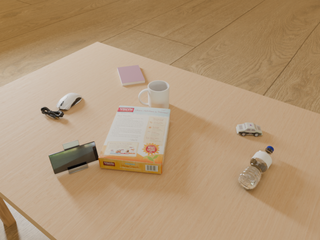book: (117, 65, 145, 86)
bottle: (238, 146, 274, 190)
box: (98, 106, 170, 174)
cup: (139, 81, 169, 108)
mouse: (56, 93, 82, 111)
phone: (49, 141, 99, 174)
toy_car: (236, 123, 262, 136)
